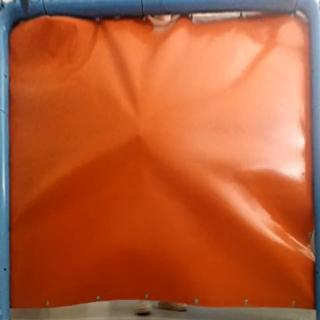Hit-hRxx: (133, 128, 147, 142)
